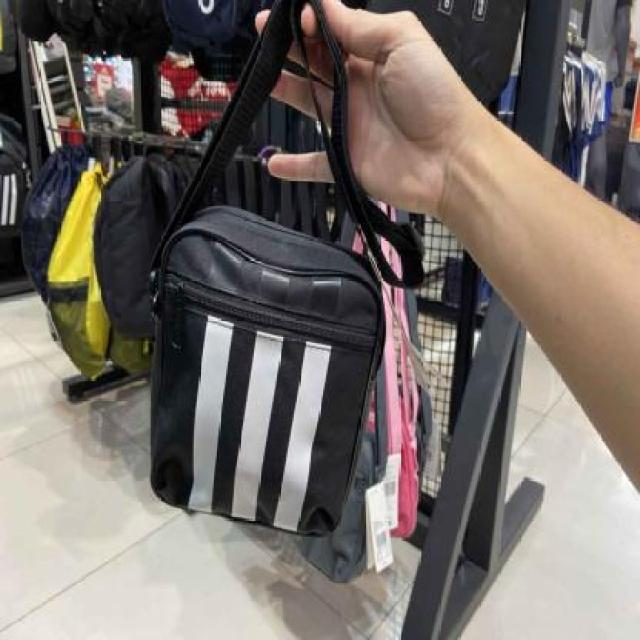Bag: (124, 0, 450, 569)
